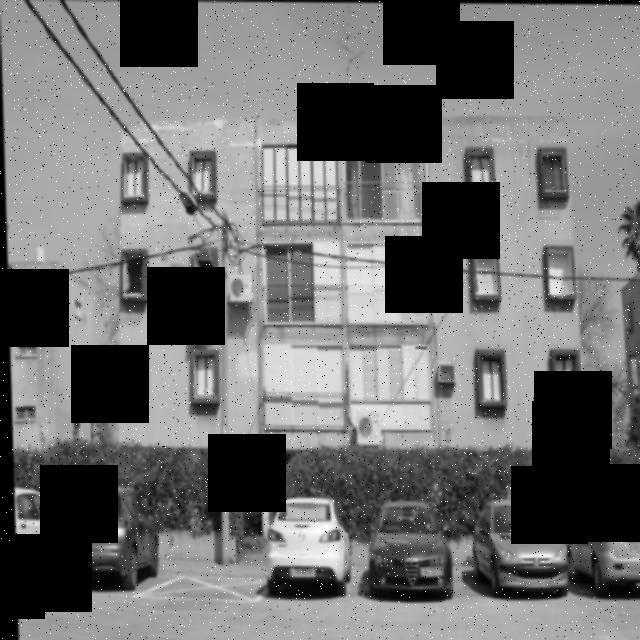Window: (476, 353, 501, 401), (547, 248, 570, 295), (553, 355, 576, 402), (121, 254, 143, 297), (192, 354, 215, 394), (122, 161, 146, 198), (194, 257, 214, 300), (472, 253, 494, 292), (120, 358, 142, 392), (192, 160, 212, 195), (542, 156, 561, 190), (472, 155, 489, 185), (13, 406, 33, 425), (16, 278, 36, 294), (14, 341, 35, 356), (68, 415, 78, 437), (623, 306, 631, 332), (72, 358, 80, 382), (635, 278, 640, 316), (72, 300, 80, 320)
